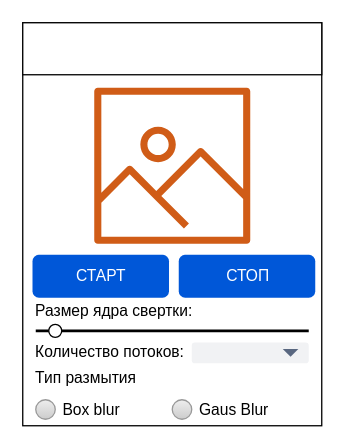
The diagram is 345 pixels wide and 448 high, and some of its shapes have lost their labels. The shapes that lost their labels are listed below. From the top down, each one's centre as x and y in pixels, then its label:
At (171,48): "lab17_Lukyanov".
At (249,352): "dropdown".
